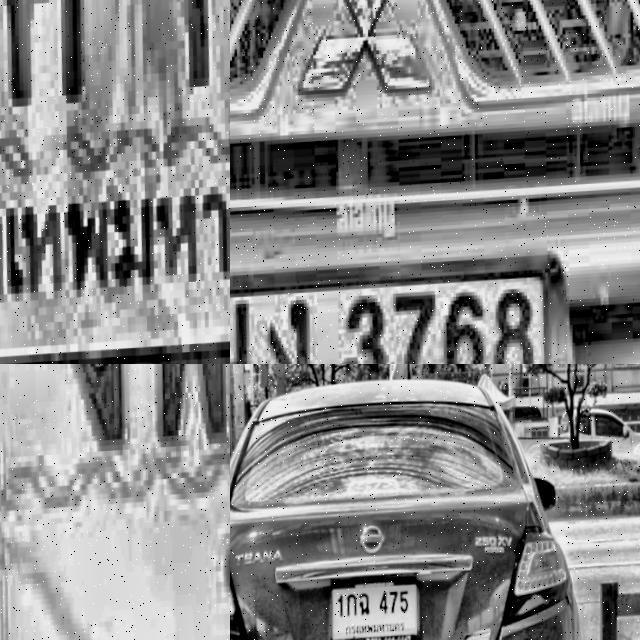license-plate: (0, 0, 230, 364), (0, 364, 230, 640), (230, 216, 627, 364), (324, 566, 437, 640)
